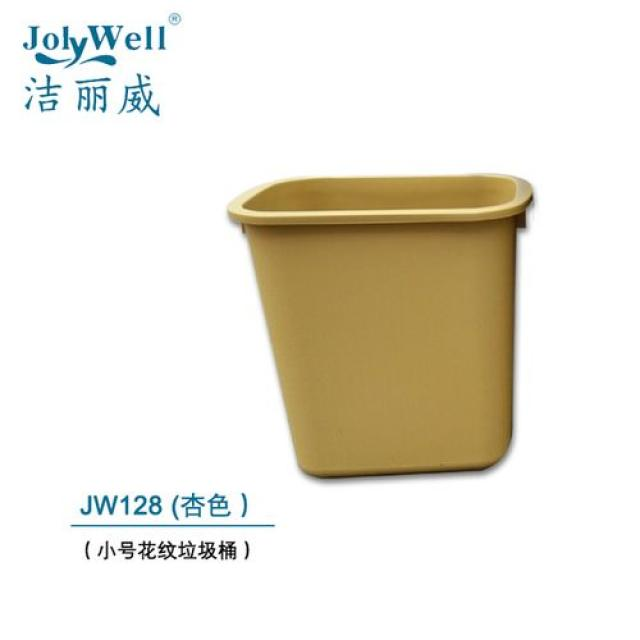dustbin: (221, 159, 547, 486)
